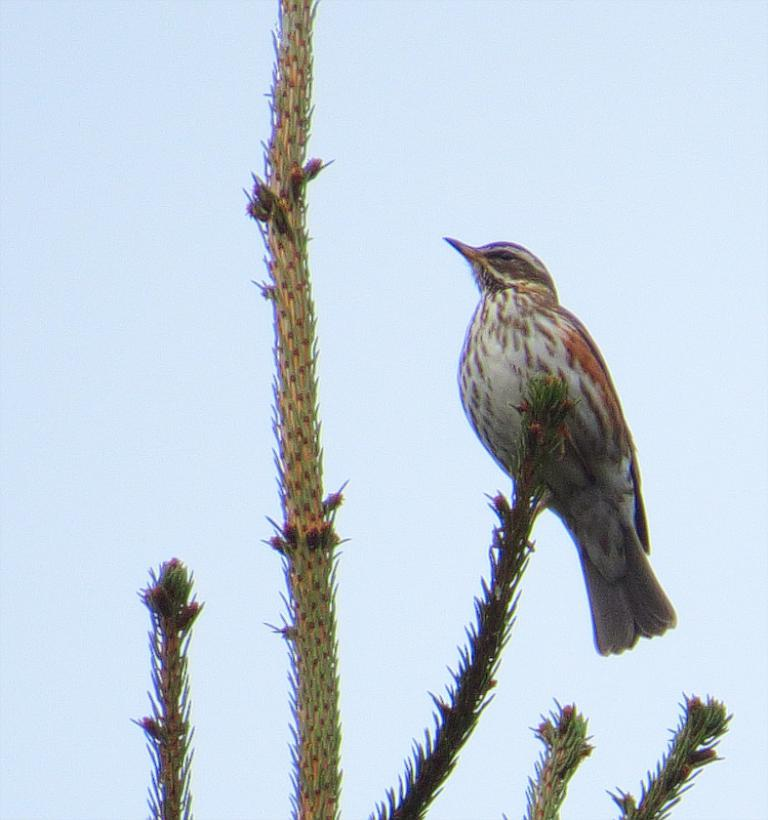Bird: (441, 237, 678, 657)
